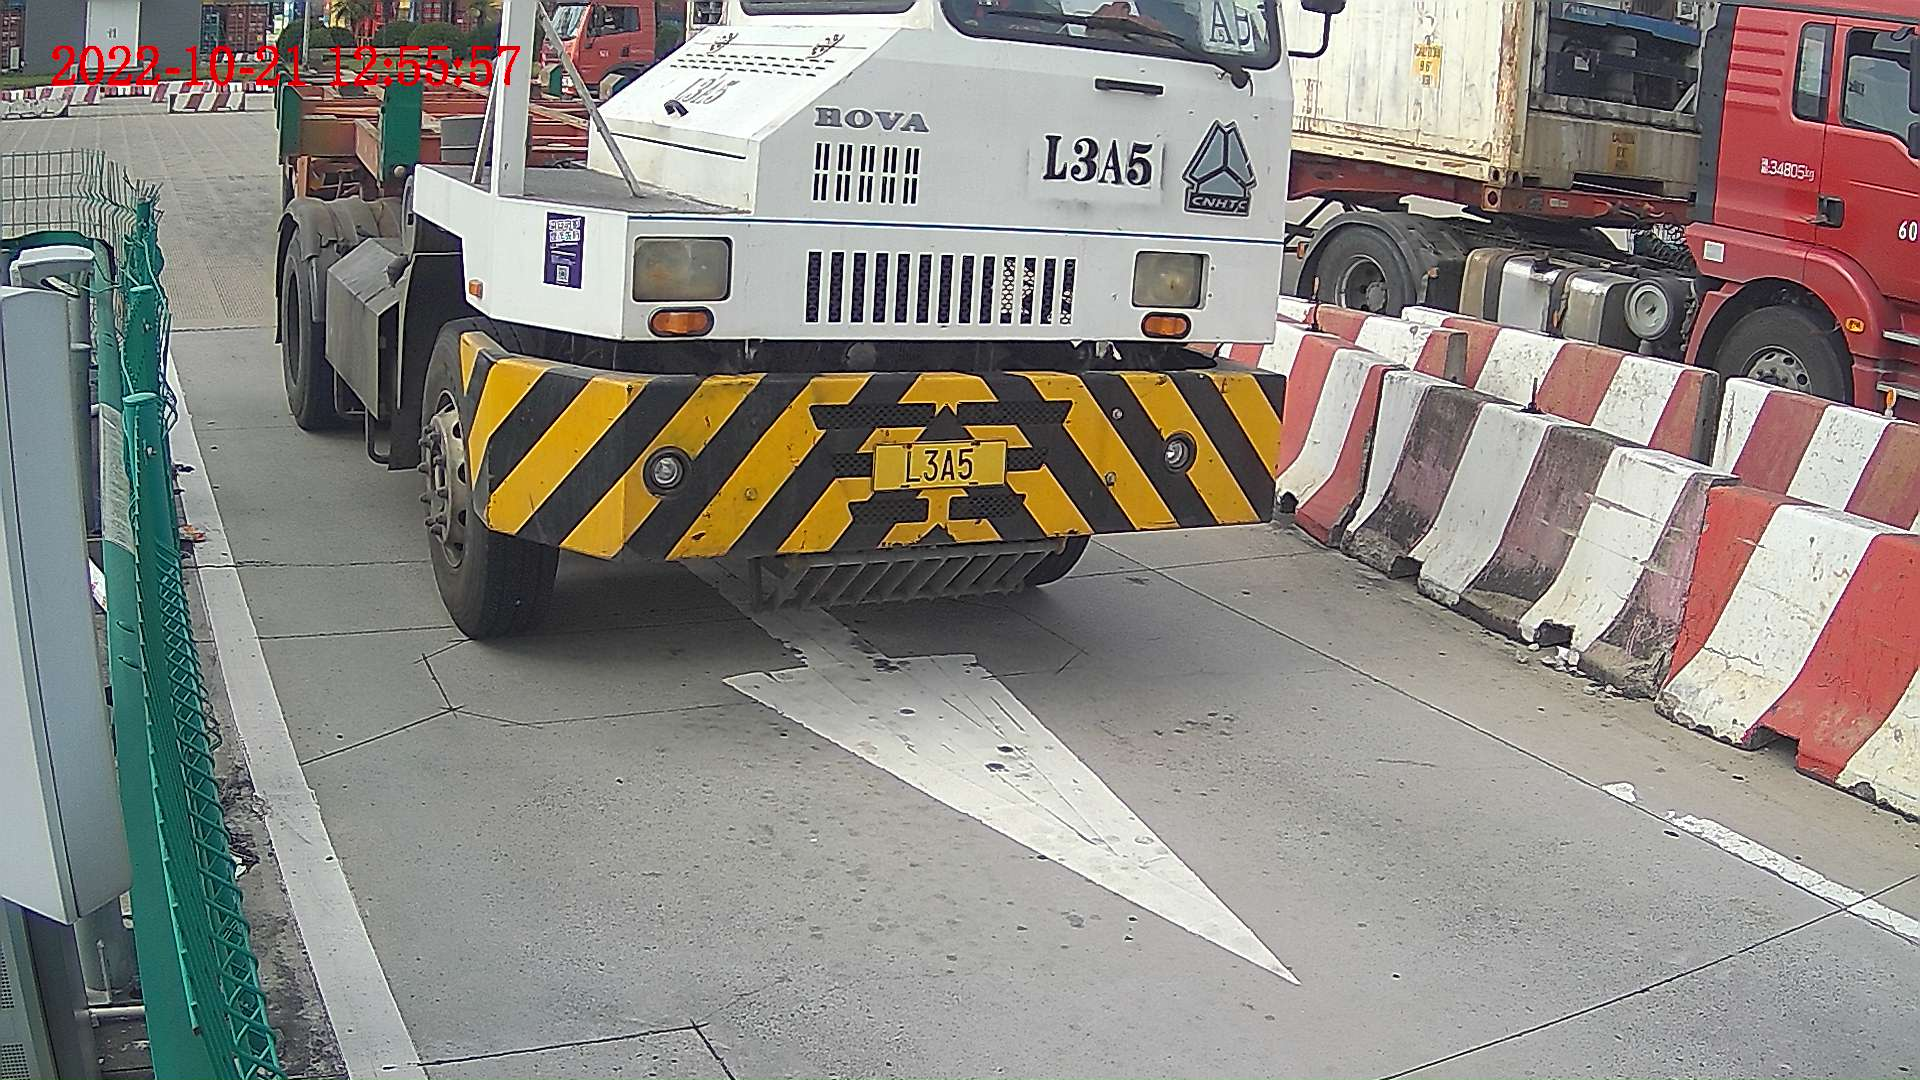head: (412, 1, 1297, 645)
plate: (870, 443, 1004, 485)
